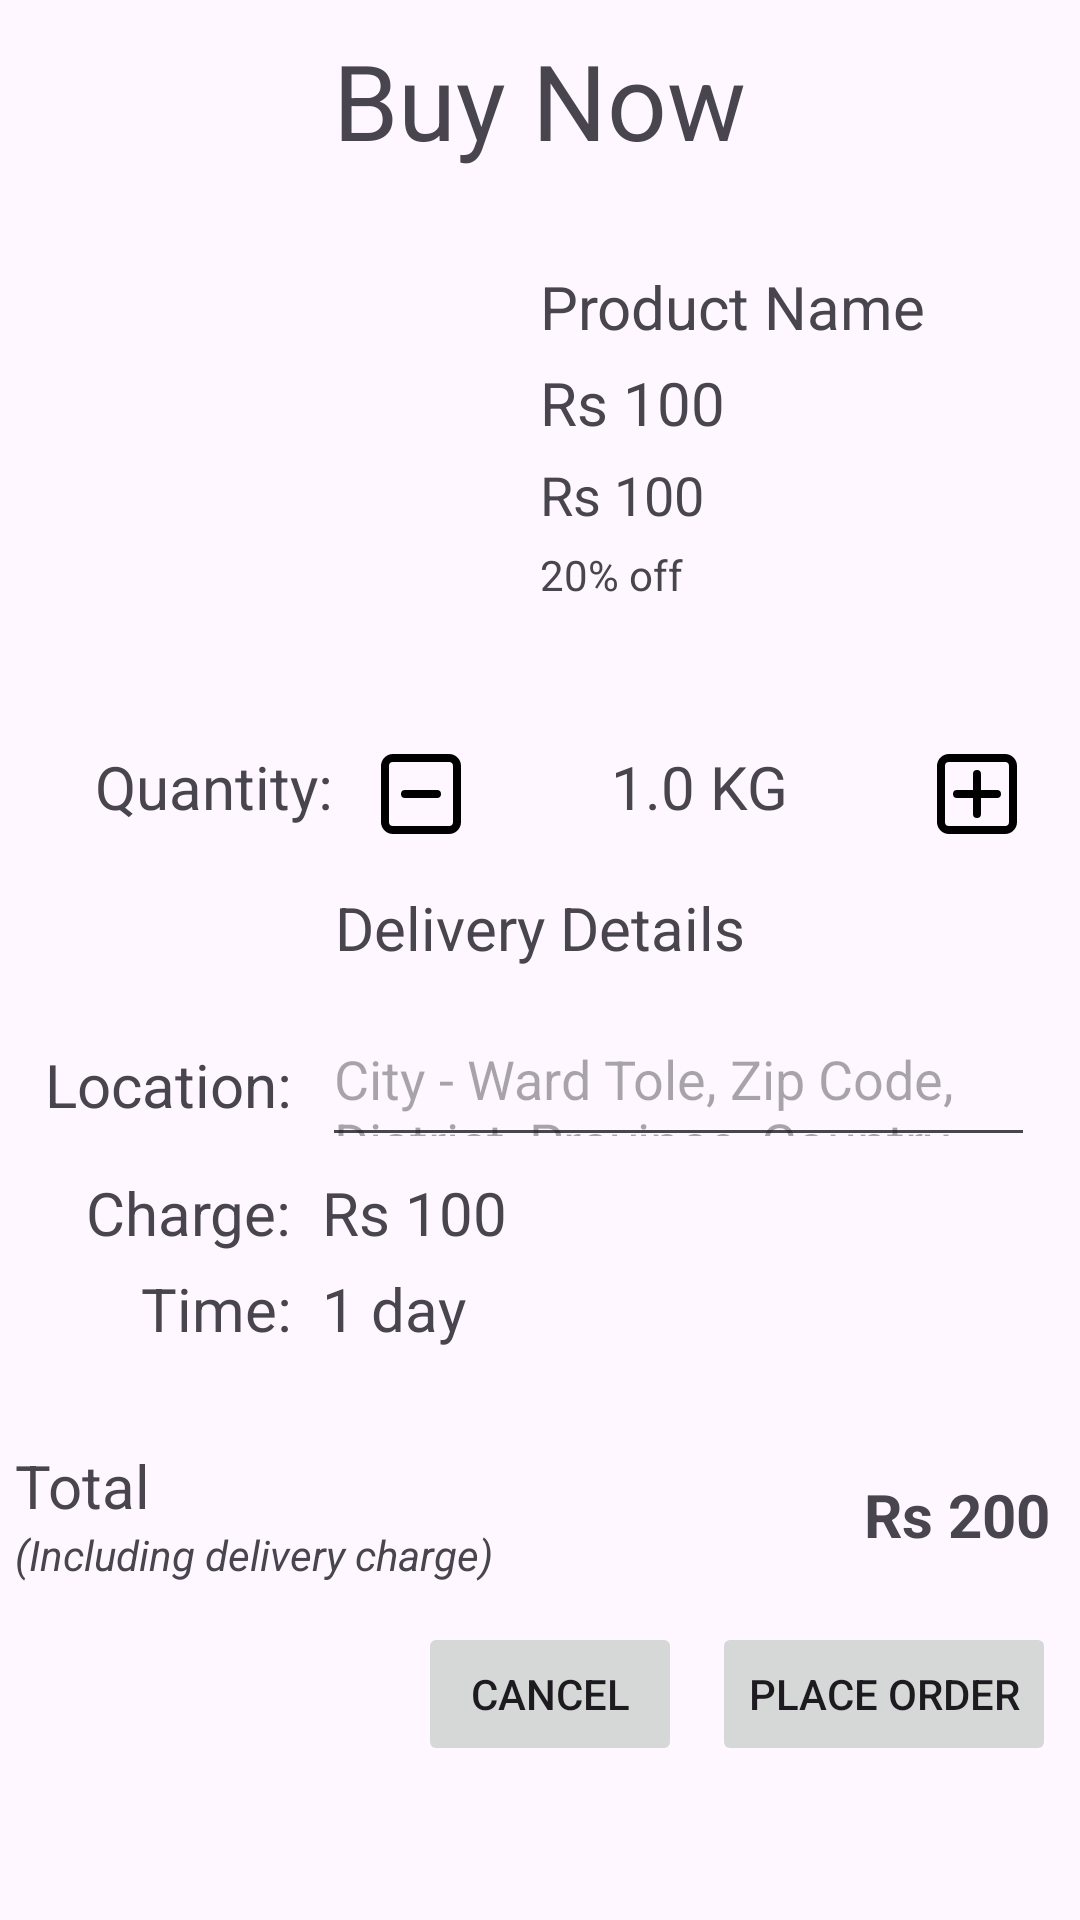

Named icons in this screenshot (1080*1920) and their bounding boxes, (x1, y1, x2, y2):
minus: (381, 754, 461, 834)
plus: (937, 754, 1017, 834)
